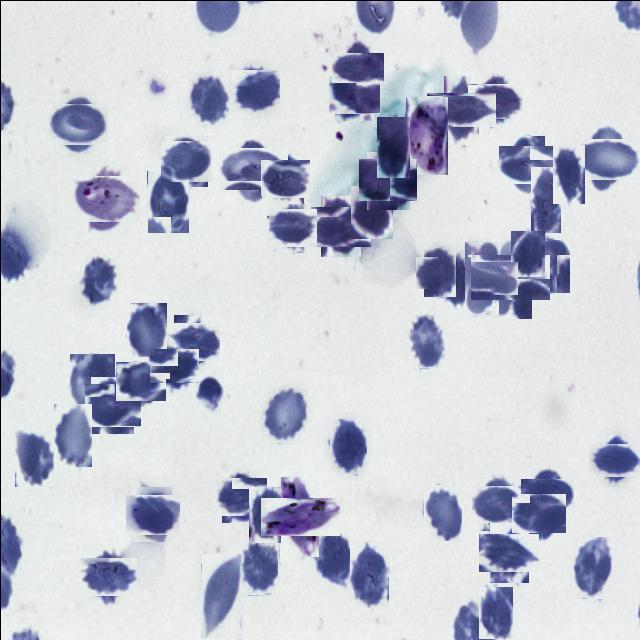difficult: (270, 486, 329, 546)
red blood cell: (476, 245, 540, 309), (200, 553, 241, 637), (224, 140, 280, 197), (577, 130, 633, 186), (454, 250, 508, 304), (434, 84, 486, 136), (69, 353, 114, 413), (52, 98, 104, 149), (146, 170, 188, 233), (570, 536, 612, 598), (314, 200, 366, 250), (349, 541, 388, 607), (86, 380, 136, 430), (362, 154, 412, 204), (262, 387, 306, 443), (484, 528, 534, 576), (14, 429, 56, 486), (53, 403, 91, 466), (126, 302, 166, 360), (83, 552, 131, 600), (502, 140, 550, 188), (128, 490, 176, 537), (514, 489, 562, 536), (350, 185, 392, 238), (238, 540, 279, 594), (314, 529, 352, 586), (163, 137, 209, 184), (328, 418, 366, 474), (423, 484, 461, 540), (188, 71, 228, 124), (232, 68, 278, 114), (474, 480, 520, 526), (169, 317, 215, 363), (530, 238, 569, 292), (248, 486, 285, 542), (472, 78, 518, 123), (376, 115, 409, 177), (331, 72, 376, 117), (118, 358, 162, 404), (406, 314, 444, 367), (530, 166, 560, 232), (79, 255, 117, 307), (218, 474, 262, 518), (593, 438, 637, 482), (269, 204, 313, 248), (262, 156, 306, 200), (525, 473, 569, 516), (552, 144, 584, 203), (478, 586, 512, 638), (152, 344, 194, 386), (337, 46, 378, 88), (437, 256, 470, 307), (419, 252, 459, 292), (510, 230, 544, 276)
ring: (77, 170, 134, 227)
trophozoite: (405, 96, 447, 174)
